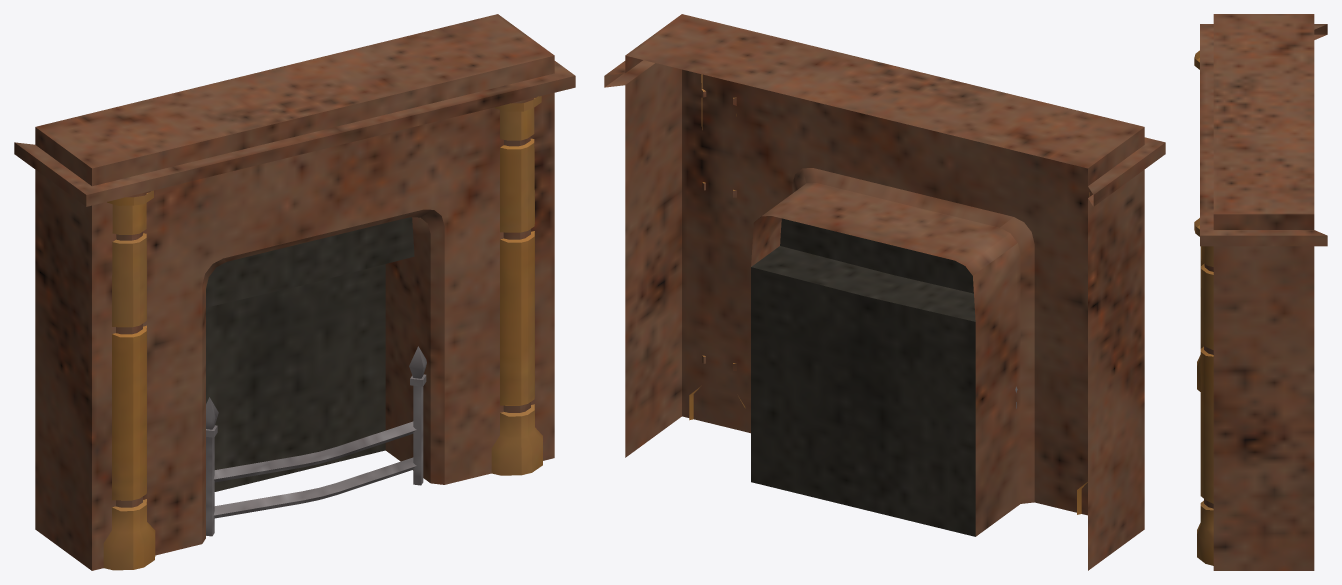
Rendered from fireplace.fbx.
3 views of the same model, side by side, from view 1: azimuth 30°, elevation 25°; view 2: azimuth 150°, elevation 25°; view 3: azimuth 270°, elevation 25° (orthographic). The views are drawn at different scales.
Visible parts, largest first — view 1: SM_FirePlace_02; view 2: SM_FirePlace_02; view 3: SM_FirePlace_02.
Boxes of the visible parts, x1,y1,x2,y2 form: SM_FirePlace_02: (14, 14, 575, 570); SM_FirePlace_02: (604, 14, 1165, 570); SM_FirePlace_02: (1194, 14, 1327, 570).
Bounding box in the file's own units: 153 × 121 × 40.91.
